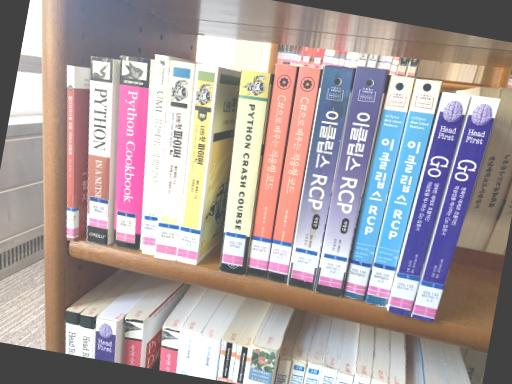book-spine: (412, 95, 500, 321), (388, 92, 470, 316), (366, 78, 442, 306), (315, 66, 388, 296), (343, 75, 415, 301), (288, 64, 354, 290), (267, 66, 321, 283), (219, 69, 271, 275), (248, 63, 297, 277), (177, 63, 217, 264), (156, 60, 195, 260), (113, 56, 150, 250), (141, 54, 169, 254), (87, 56, 113, 245), (66, 65, 74, 241)
